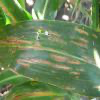Corn Gray leaf spot: (0, 18, 99, 99)
